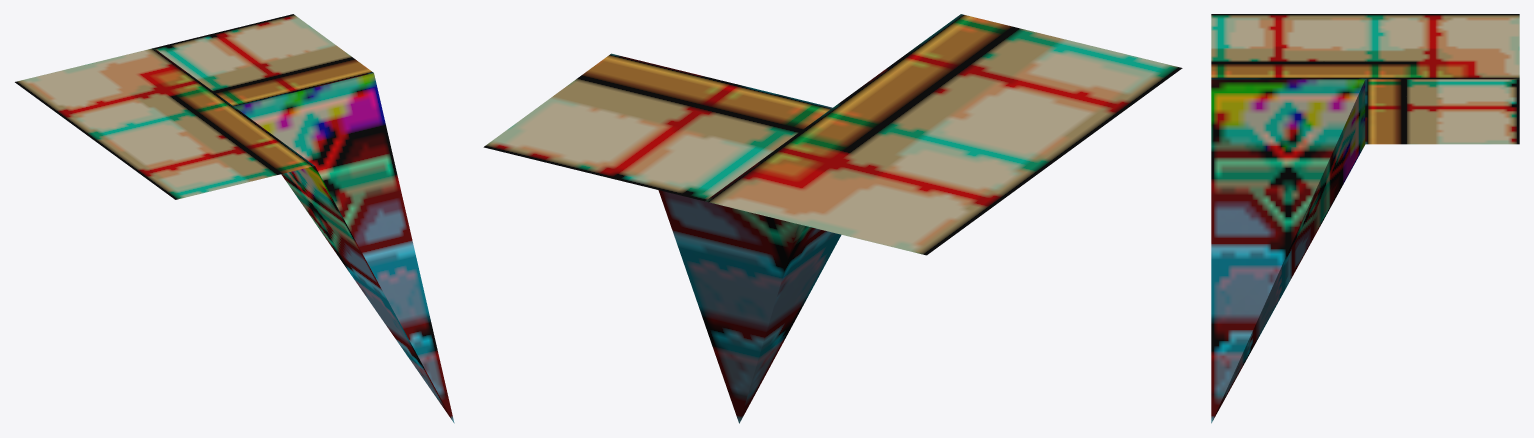
The model's file is arch_cathedral_wallMini_cornerIn.FBX.
3 views of the same model, side by side, from view 1: azimuth 30°, elevation 25°; view 2: azimuth 150°, elevation 25°; view 3: azimuth 270°, elevation 25° (orthographic). The views are drawn at different scales.
Parts seen in each view (by area): view 1: arch_cathedral_wallMini_cornerIn; view 2: arch_cathedral_wallMini_cornerIn; view 3: arch_cathedral_wallMini_cornerIn.
Boxes of the visible parts, x1,y1,x2,y2 form: arch_cathedral_wallMini_cornerIn: (15, 14, 454, 423); arch_cathedral_wallMini_cornerIn: (483, 14, 1182, 423); arch_cathedral_wallMini_cornerIn: (1211, 14, 1519, 423).
Size of the model in its own units: 2 by 2 by 2.
Materials: 1 (1 with a texture image).
